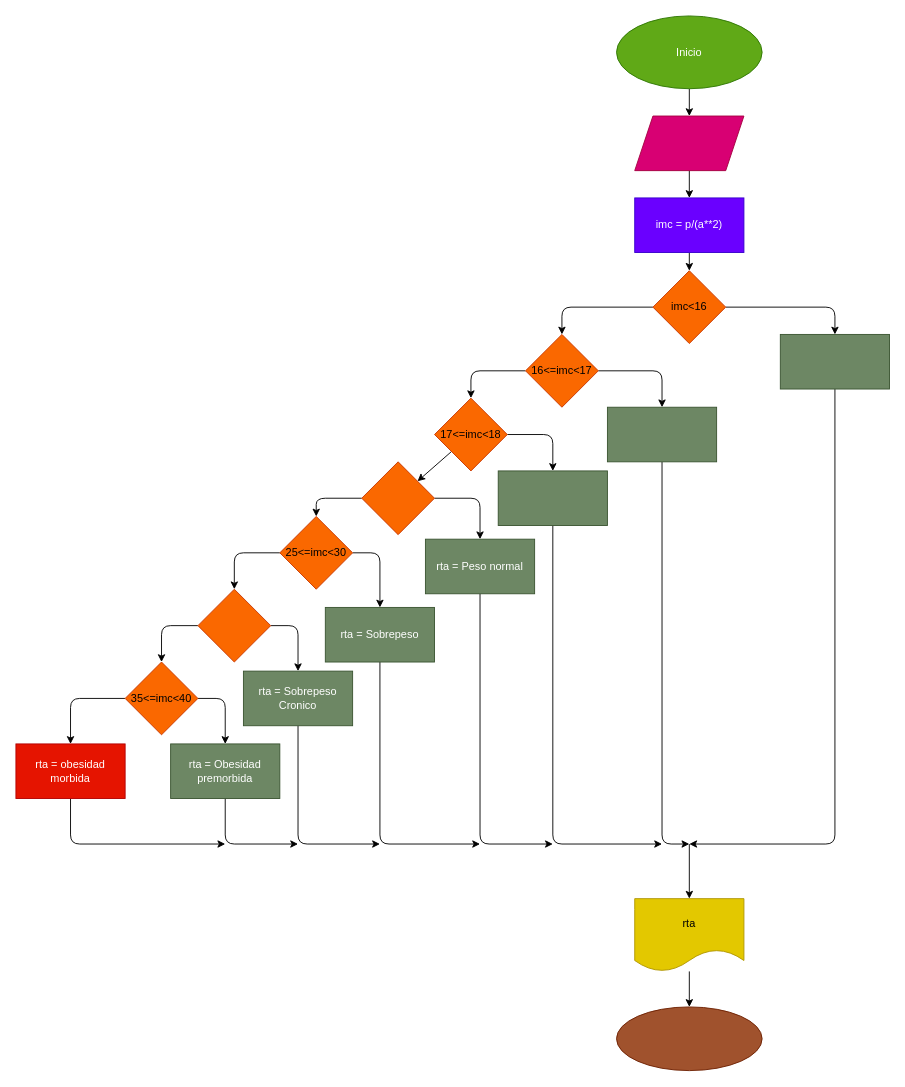
This 905x1087 diagram has some shape labels left out. Each missing label, with the box of its shape:
18<=imc<25: (361, 461, 435, 535)
30<=imc<35: (197, 588, 271, 662)
Fin: (616, 1006, 762, 1071)
p a: (634, 115, 744, 171)
rta = criterio de ingreso al hospital: (779, 334, 890, 389)
rta=Bajo peso: (497, 470, 607, 526)
rta=Infrapeso: (607, 406, 717, 462)
